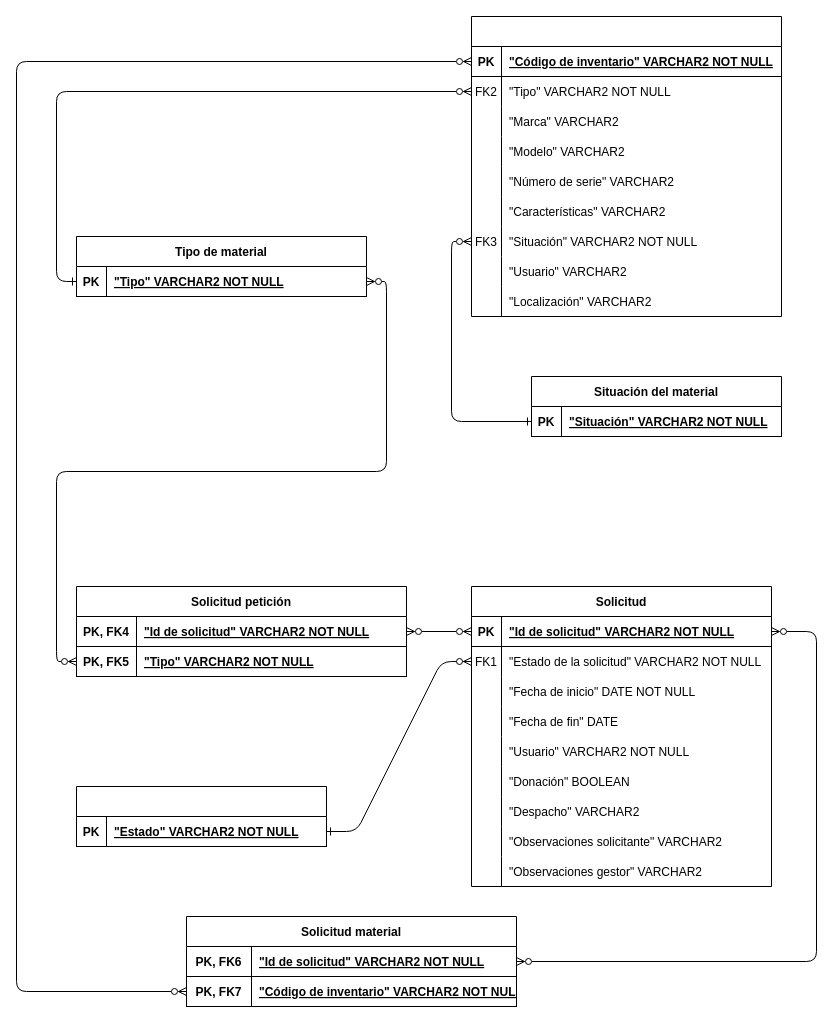
This 833x1023 diagram has some shape labels left out. The shapes that lost their labels are listed below. From the top down, each one's box as (x1, y1, x2, y2) in pixels, then its label:
(470, 16, 782, 316): Material
(76, 786, 326, 846): Estado de la solicitud
